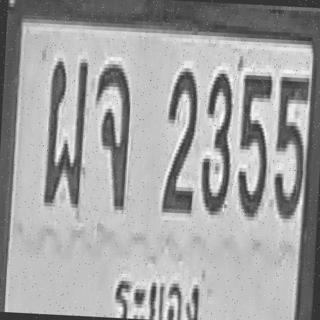A08: (91, 62, 132, 208)
A28: (44, 58, 88, 208)
N02: (161, 67, 199, 214)
N03: (199, 69, 235, 216)
N05: (236, 71, 273, 218), (272, 73, 309, 220)
P53: (110, 258, 207, 320)
